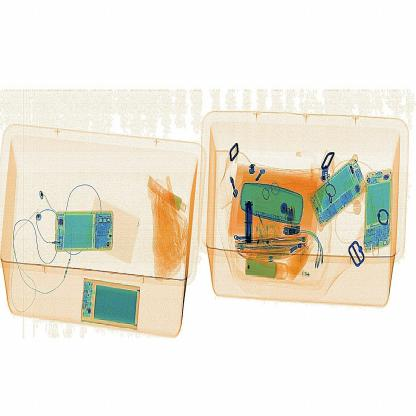scissors: (240, 192, 258, 248)
